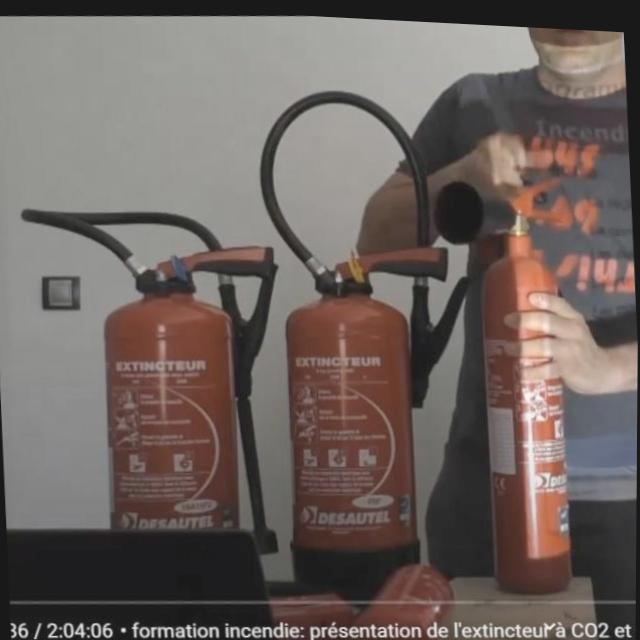FireExtinguisher: (246, 70, 471, 626), (9, 182, 299, 608), (422, 154, 586, 600)
